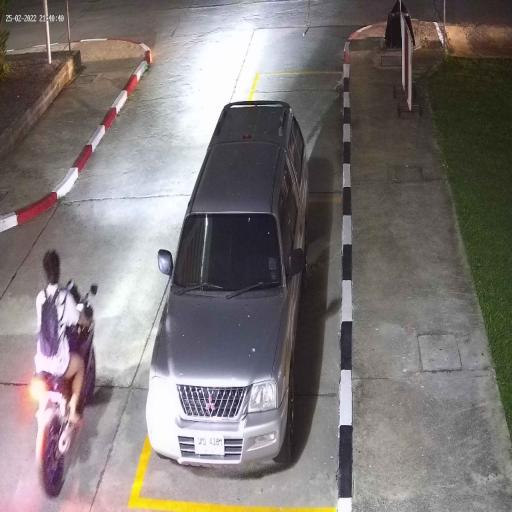car: (146, 97, 310, 471)
motorcycle: (30, 326, 100, 502)
